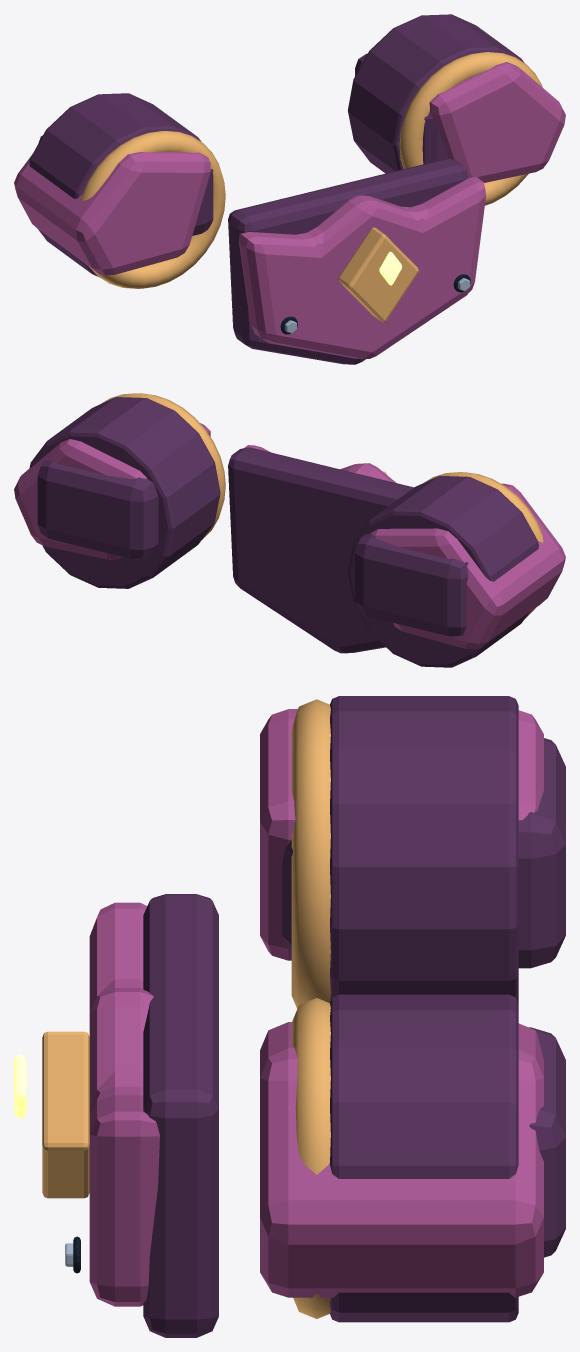
Rendered from resonance_shell.glb.
The picture shows the model from 3 angles, top to bottom: view 1: azimuth 30°, elevation 25°; view 2: azimuth 150°, elevation 25°; view 3: azimuth 270°, elevation 25°; orthographic projection. The views are drawn at different scales.
Visible parts, largest first — view 1: ModuleArmor; view 2: ModuleArmor; view 3: ModuleArmor.
Part boxes in pixels (<box>): ModuleArmor: <box>14,14,565,364</box>; ModuleArmor: <box>14,393,565,667</box>; ModuleArmor: <box>14,696,565,1337</box>.
Bounding box in the file's own units: 1.69 × 0.8025 × 0.875.
